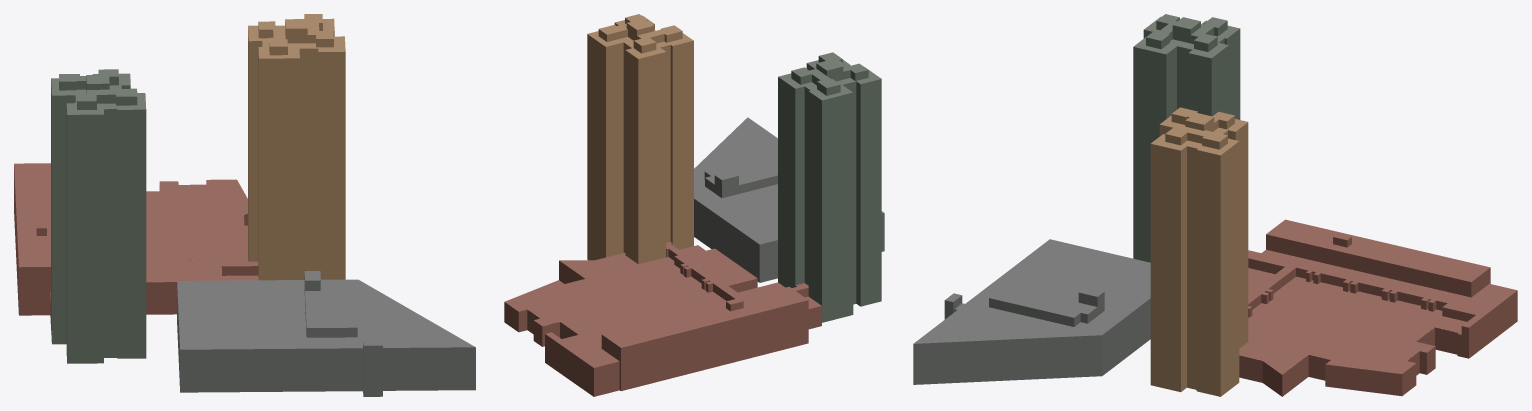
Rendered from tile-10_-4.glb.
3 views of the same model, side by side, from view 1: azimuth 30°, elevation 25°; view 2: azimuth 150°, elevation 25°; view 3: azimuth 270°, elevation 25° (orthographic). The views are drawn at different scales.
Parts seen in each view (by area): view 1: wall, roof; view 2: wall, roof; view 3: wall, roof.
Part boxes in pixels (x1,y1,x2,y2): wall: (14, 22, 475, 396); roof: (14, 14, 475, 349); wall: (504, 18, 884, 396); roof: (505, 14, 883, 367); wall: (913, 17, 1517, 396); roof: (913, 14, 1517, 374).
Bounding box in the file's own units: 136 × 116 × 249.
